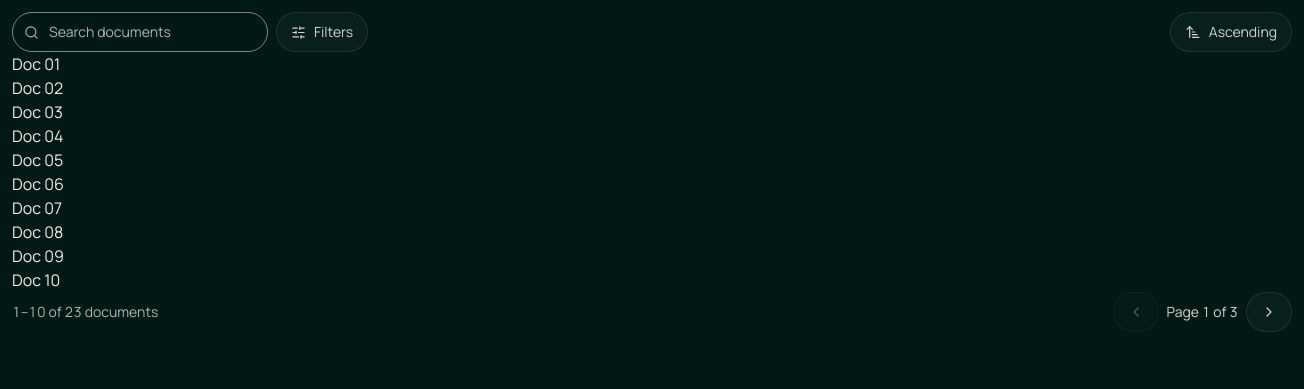
Test case: a paged list › goes back to page 1 when a filter leaves fewer pages than the one showing
This screenshot has width=1304, height=389.
What coordinates should you click on to do the following:
click the button named "Next page"
I would click on:
 (1269, 312)
Its box is [1246,292,1292,332].
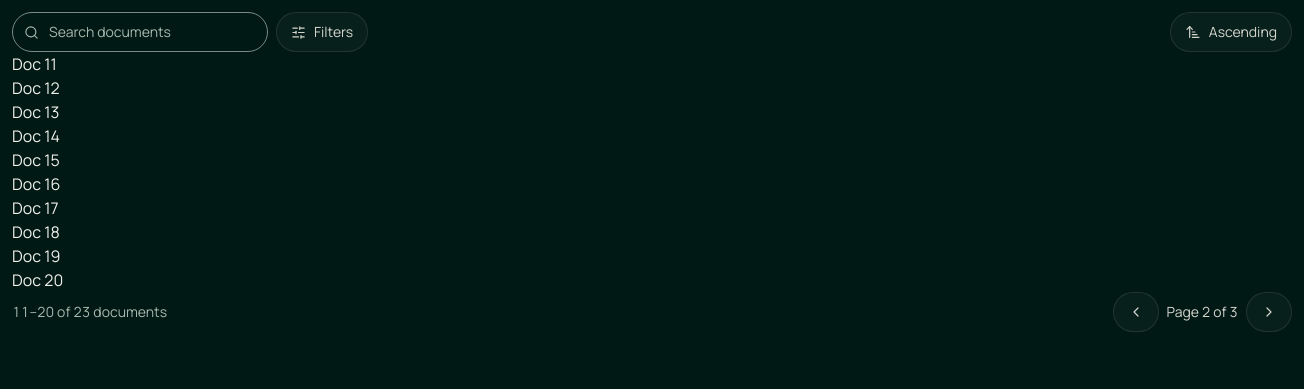
What coordinates should you click on to do the following:
click the button named "Next page"
I would click on:
 (1269, 312)
Its box is [1246,292,1292,332].
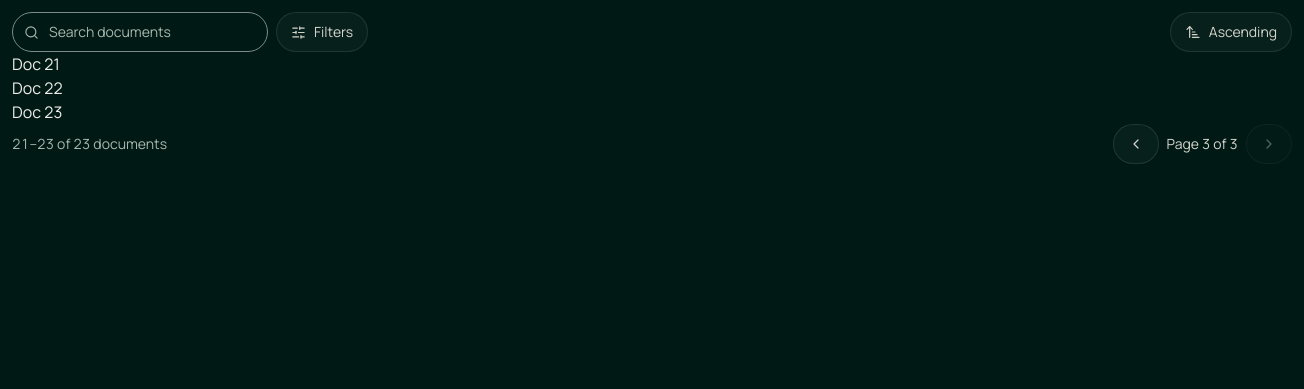
What coordinates should you click on to do the following:
click the button "Filters"
I would click on:
 (322, 32)
Its box is [276,12,368,52].
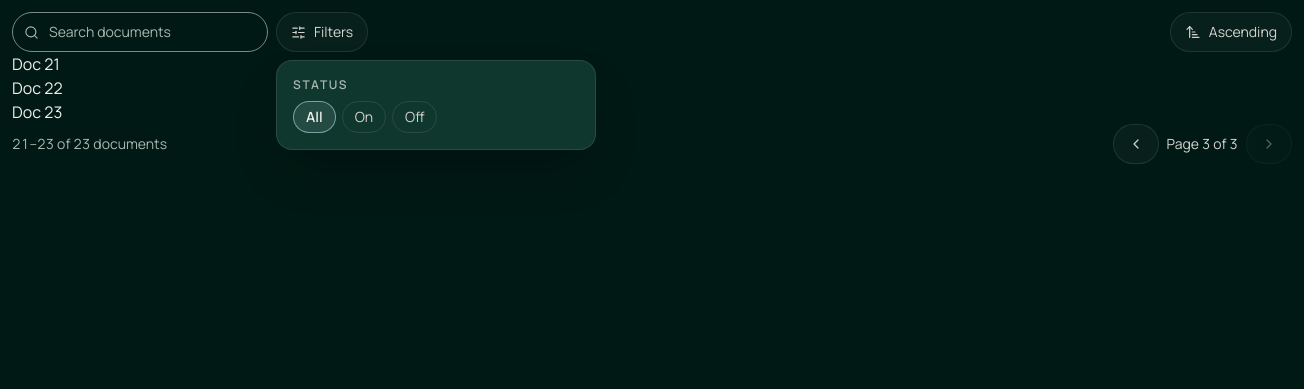
What coordinates should you click on to do the following:
click the button "On"
I would click on:
 (364, 117)
Its box is [342,101,386,133].
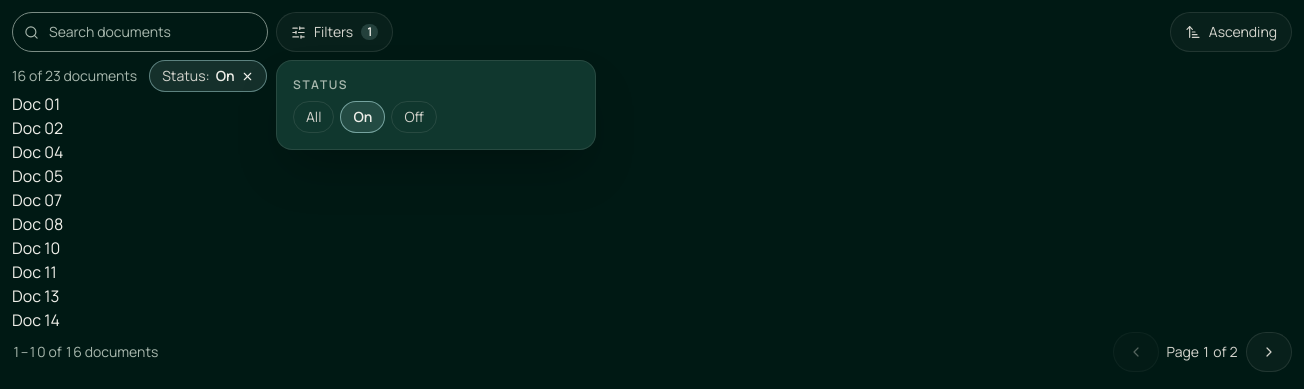
Now the list item "Doc 01" is shown, box [12,93,60,115]
Now the text "Page 1 of 2" is shown, box [1167,342,1238,362]
